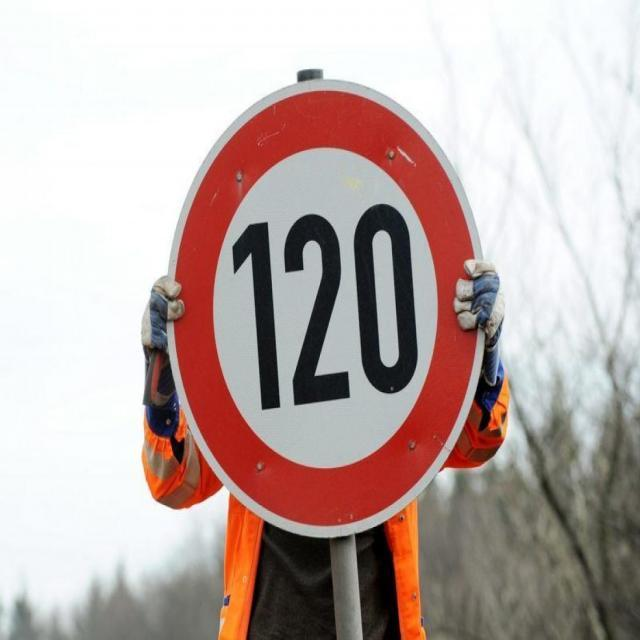speed limit 120: (163, 79, 486, 537)
